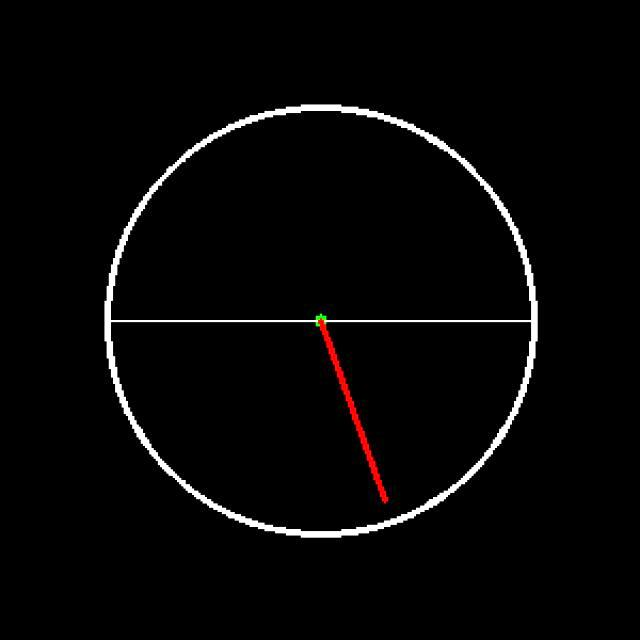Needle_Tip: (359, 474, 417, 524)
Needle_base: (300, 296, 350, 352)
